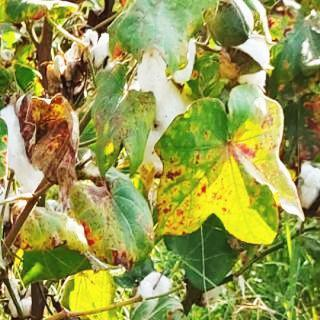blight: (155, 78, 313, 262), (54, 180, 157, 274)
